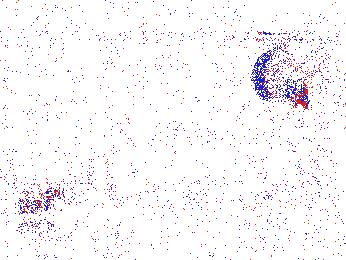flame jellyfish: (251, 46, 322, 108), (45, 160, 117, 219), (1, 163, 57, 215)
